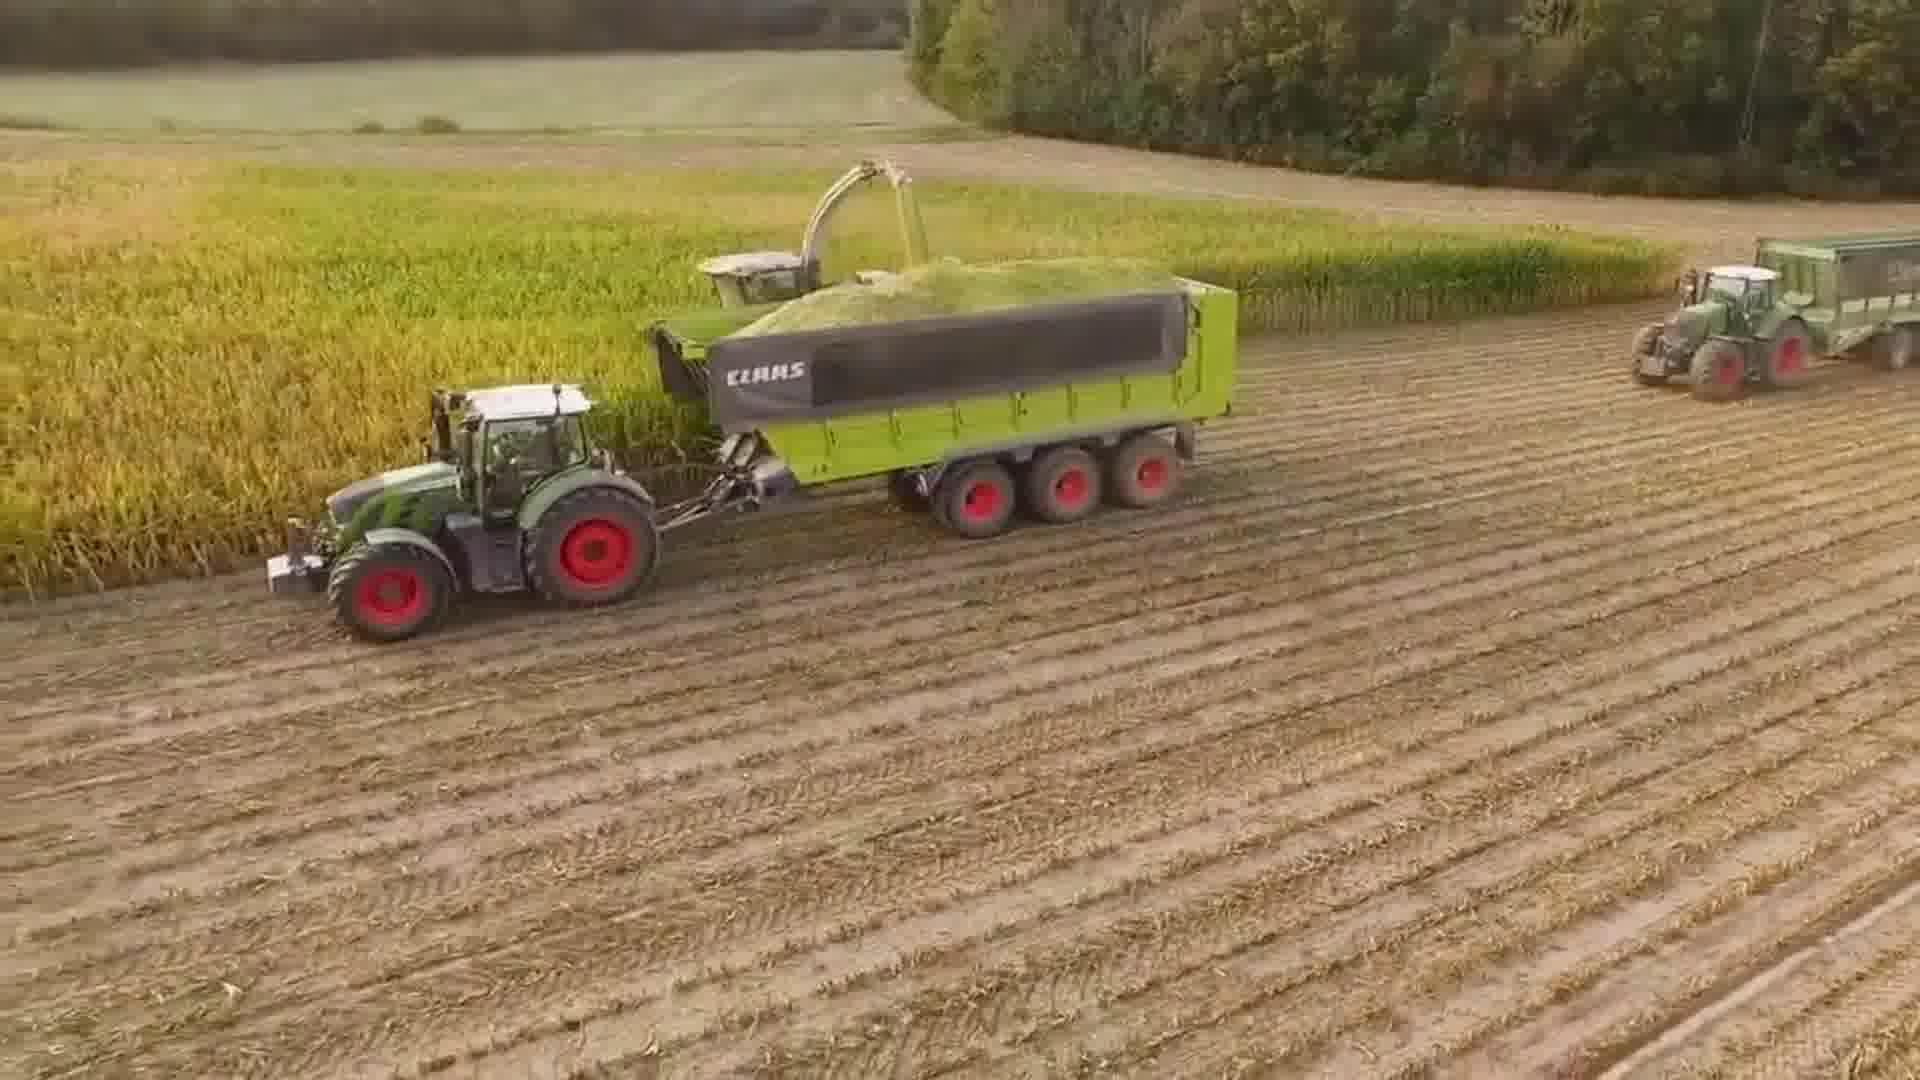combine harvester: (692, 150, 934, 303)
tractor: (255, 372, 683, 651), (1622, 257, 1820, 406)
trailer: (640, 255, 1245, 549), (1745, 222, 1920, 378)
